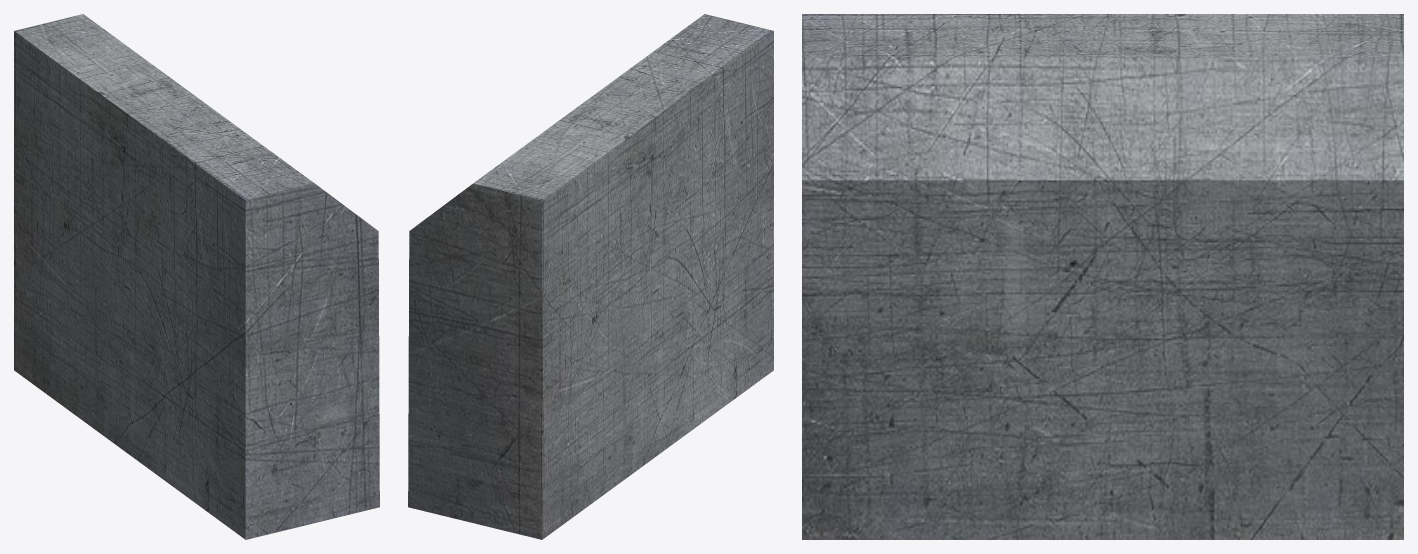
File: panel.gltf
3 renders of one model, left to right at view 1: azimuth 30°, elevation 25°; view 2: azimuth 150°, elevation 25°; view 3: azimuth 270°, elevation 25°, orthographic. The views are drawn at different scales.
Parts seen in each view (by area): view 1: Cube; view 2: Cube; view 3: Cube.
Boxes of the visible parts, x1,y1,x2,y2 form: Cube: [14, 14, 379, 539]; Cube: [408, 14, 773, 539]; Cube: [802, 14, 1403, 539].
Size of the model in its own units: 0.8268 by 2 by 2.47.
1 material, 1 textured.
